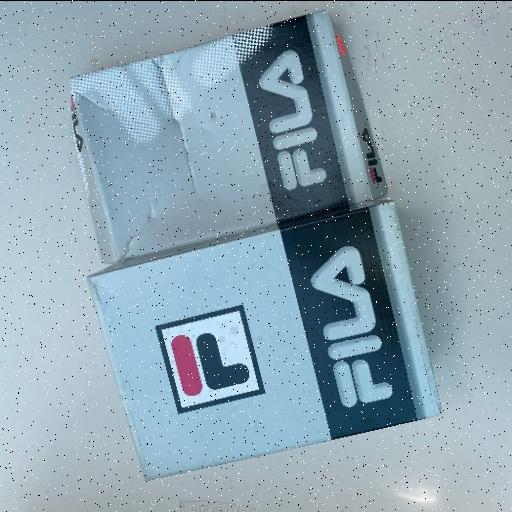Cardboard: (66, 8, 442, 482)
